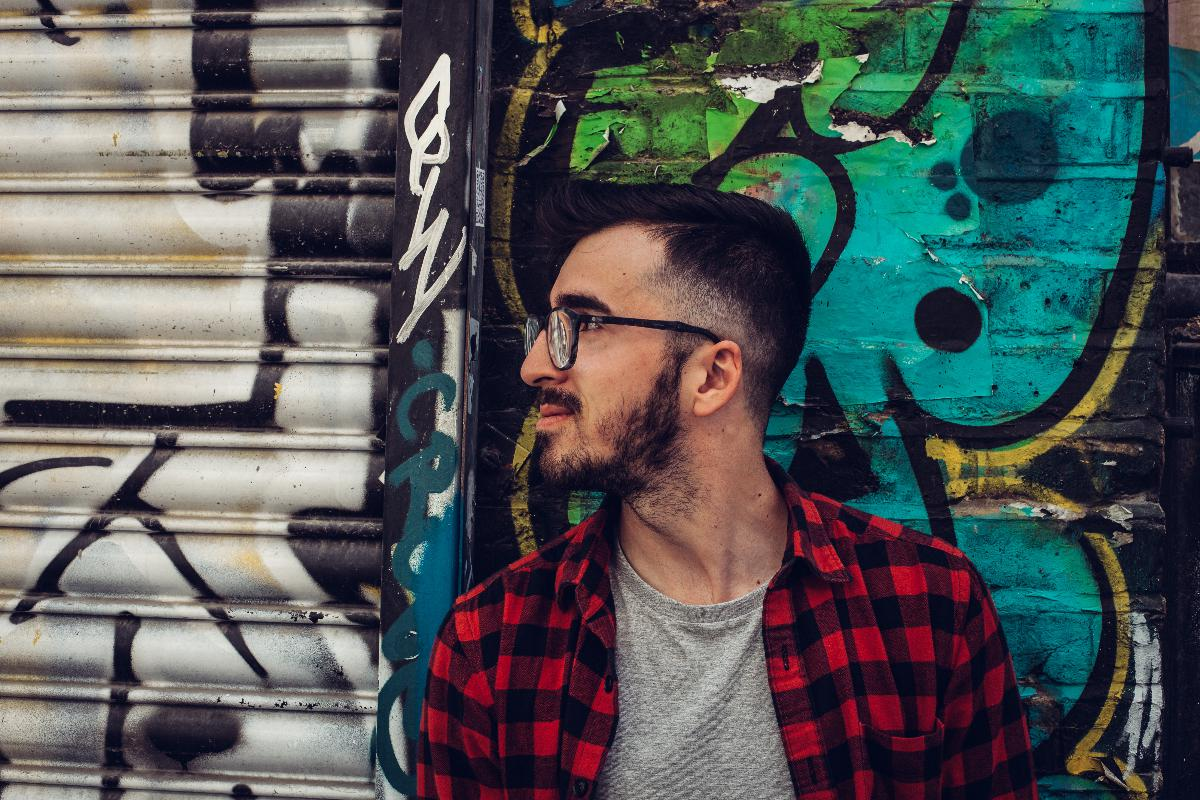Person: (418, 182, 1034, 800)
